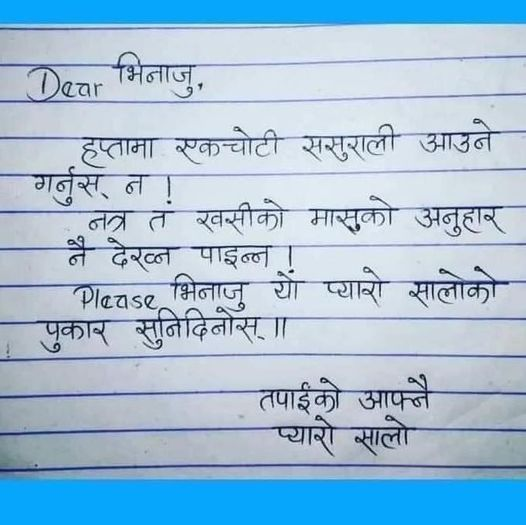text: (132, 307, 268, 349), (172, 123, 284, 167), (107, 50, 197, 98), (298, 122, 402, 163), (408, 265, 511, 306), (307, 193, 400, 236), (195, 196, 289, 236), (23, 64, 105, 107), (168, 271, 249, 313), (412, 202, 506, 238), (417, 117, 499, 158), (255, 376, 344, 413), (320, 266, 393, 310), (357, 371, 433, 413), (270, 416, 340, 460), (27, 170, 108, 208), (68, 280, 159, 313), (74, 132, 159, 166), (353, 413, 418, 456), (33, 318, 112, 352), (190, 242, 277, 269), (106, 238, 178, 270), (268, 269, 305, 304), (143, 205, 181, 235), (85, 211, 134, 234), (120, 170, 156, 200), (63, 237, 94, 270)
